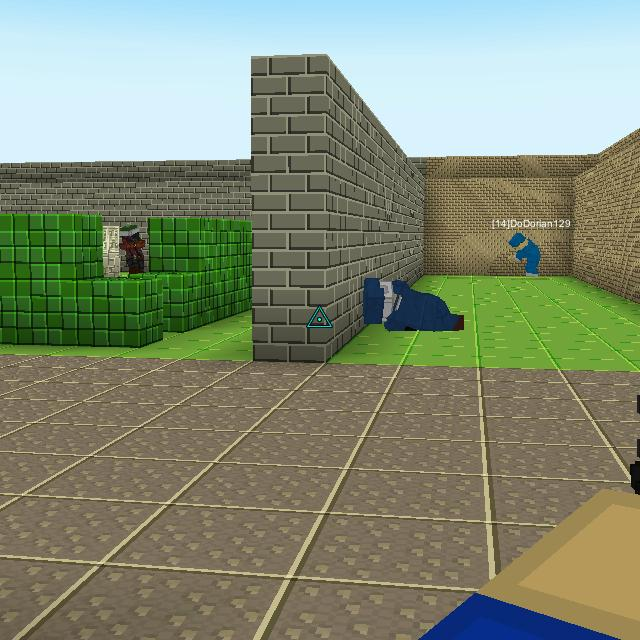enemy: (120, 221, 149, 274)
